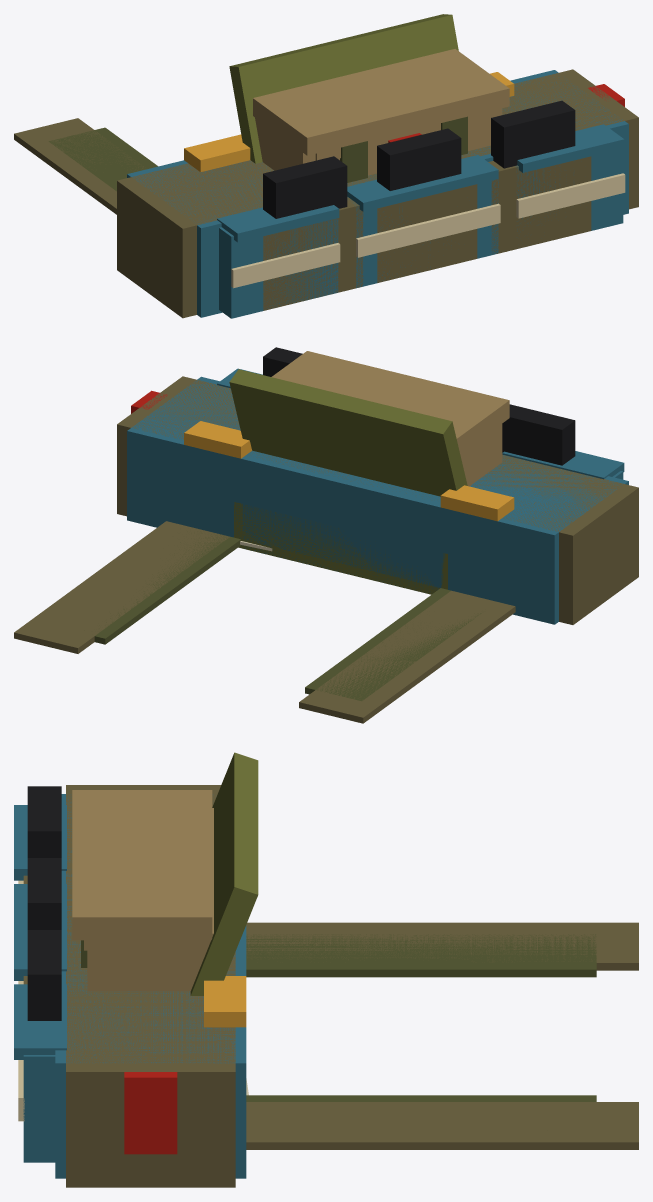
Rendered from items.glb.
3 renders of one model, top to bottom at view 1: azimuth 30°, elevation 25°; view 2: azimuth 150°, elevation 25°; view 3: azimuth 270°, elevation 25°, orthographic. The views are drawn at different scales.
Visible parts, largest first — view 1: Item_Harness, Item_Tote_Rig, Item_MedPouch_Upgraded, Item_Gadget_Starter, Item_MedPouch; view 2: Item_Tote_Rig, Item_Harness, Item_Gadget_Starter, Item_MedPouch_Upgraded; view 3: Item_Harness, Item_Tote_Rig, Item_MedPouch_Upgraded, Item_Gadget_Starter.
Part boxes in pixels (x1,y1,x2,y2): Item_Harness: [14, 69, 638, 318]; Item_Tote_Rig: [48, 70, 628, 318]; Item_MedPouch_Upgraded: [253, 49, 509, 182]; Item_Gadget_Starter: [229, 14, 506, 251]; Item_MedPouch: [315, 111, 490, 160]; Item_Tote_Rig: [84, 368, 628, 701]; Item_Harness: [14, 347, 638, 723]; Item_Gadget_Starter: [229, 369, 467, 594]; Item_MedPouch_Upgraded: [271, 351, 509, 486]; Item_Harness: [23, 785, 638, 1187]; Item_Tote_Rig: [14, 794, 596, 1178]; Item_MedPouch_Upgraded: [72, 790, 213, 991]; Item_Gadget_Starter: [190, 752, 258, 995].
Bounding box in the file's own units: 0.326 × 0.1212 × 0.2945.
